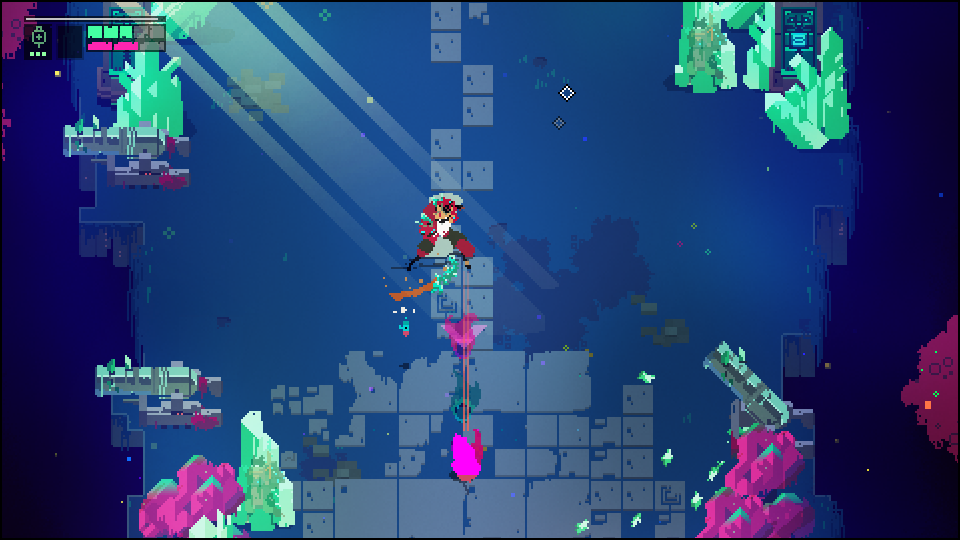hanged_man: (399, 190, 473, 293)
player: (448, 430, 480, 478)
